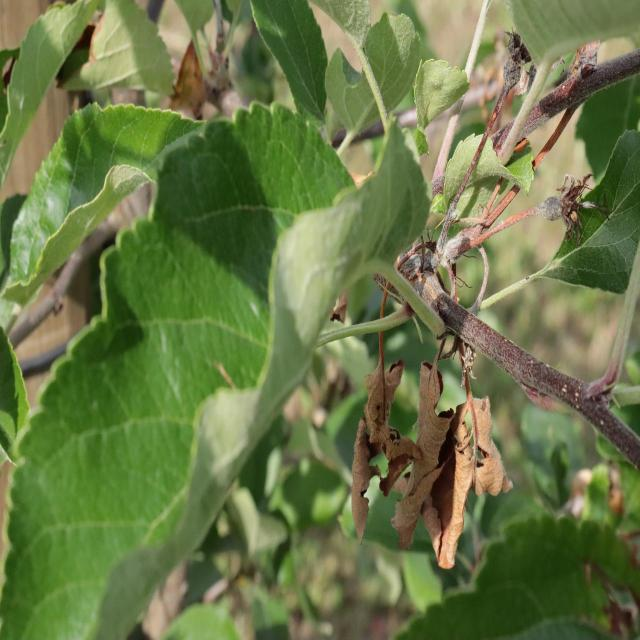-FireBlight-: (369, 248, 506, 569)
